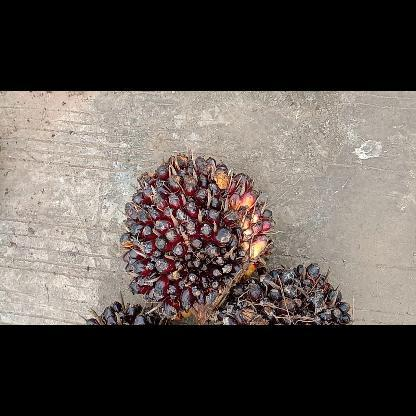TBS mentah: (116, 152, 278, 324), (214, 262, 354, 324)
